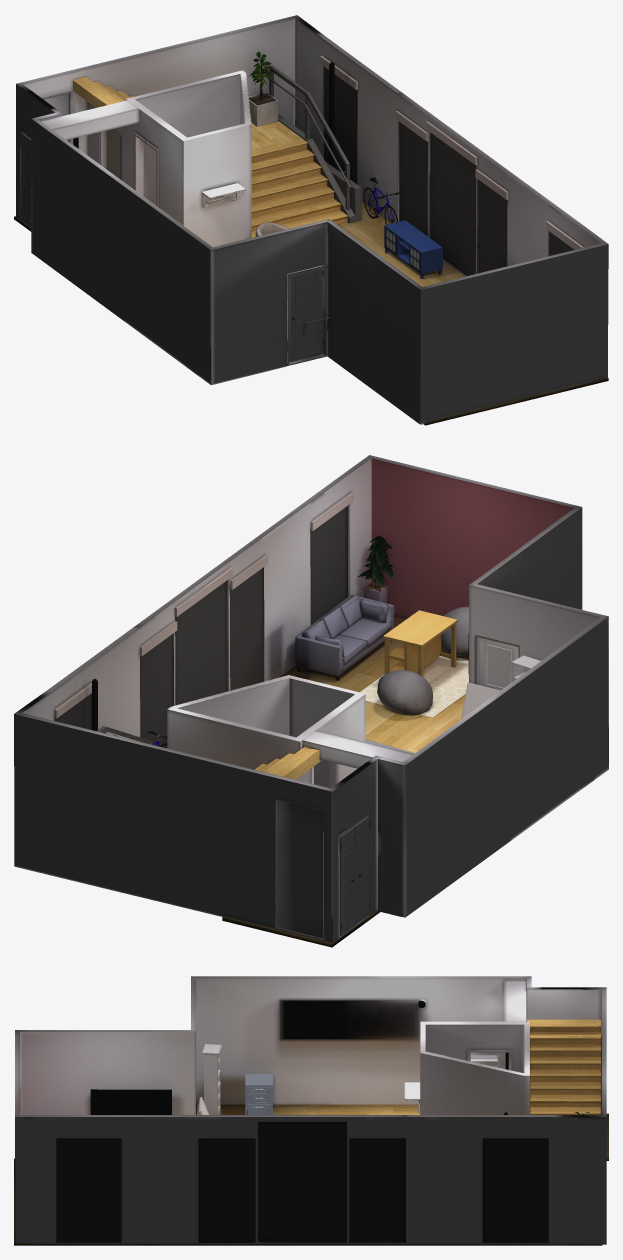
File: Baked_sc1_staging_objaverse_cabinet1_h870.glb
3 views of the same model, one above another, from view 1: azimuth 30°, elevation 25°; view 2: azimuth 150°, elevation 25°; view 3: azimuth 270°, elevation 25° (orthographic). The views are drawn at different scales.
Parts seen in each view (by area): view 1: frl_apartment_wall_arch.001, frl_apartment_blinds, frl_apartment_stair, frl_apartment_floor, frl_apartment_door_01, frl_apartment_tvstand, frl_apartment_indoor_plant_01, frl_apartment_door_05, frl_apartment_door_part_03, frl_apartment_door_part_04, frl_apartment_bike_01, frl_apartment_clothes_hanger_02 (+1 smaller); view 2: frl_apartment_wall_arch.001, frl_apartment_blinds, frl_apartment_door_04, frl_apartment_floor, frl_apartment_sofa, frl_apartment_table_02, frl_apartment_rug_01, frl_apartment_beanbag_01, frl_apartment_door_01, frl_apartment_door_05, frl_apartment_door_06, frl_apartment_stair (+4 smaller); view 3: frl_apartment_wall_arch.001, frl_apartment_blinds, frl_apartment_stair, frl_apartment_floor, frl_apartment_tv_screen, frl_apartment_wall_cabinet_01, Drawer_Merged_Metalic_Gloss_Rough_Alum.001_0.
Part boxes in pixels (left/top/right/bottom): frl_apartment_wall_arch.001: left=16, top=15, right=608, bottom=424; frl_apartment_blinds: left=320, top=56, right=583, bottom=275; frl_apartment_stair: left=73, top=65, right=361, bottom=237; frl_apartment_floor: left=14, top=201, right=608, bottom=425; frl_apartment_door_01: left=289, top=267, right=323, bottom=362; frl_apartment_tvstand: left=384, top=220, right=442, bottom=278; frl_apartment_indoor_plant_01: left=248, top=52, right=278, bottom=126; frl_apartment_door_05: left=21, top=133, right=31, bottom=226; frl_apartment_door_part_03: left=287, top=265, right=327, bottom=365; frl_apartment_door_part_04: left=135, top=133, right=158, bottom=207; frl_apartment_bike_01: left=363, top=177, right=400, bottom=224; frl_apartment_clothes_hanger_02: left=201, top=183, right=245, bottom=207; frl_apartment_wall_arch.001: left=14, top=455, right=608, bottom=943; frl_apartment_blinds: left=54, top=492, right=353, bottom=748; frl_apartment_door_04: left=276, top=800, right=323, bottom=938; frl_apartment_floor: left=222, top=616, right=468, bottom=947; frl_apartment_sofa: left=295, top=594, right=394, bottom=680; frl_apartment_table_02: left=383, top=610, right=457, bottom=676; frl_apartment_rug_01: left=359, top=656, right=468, bottom=717; frl_apartment_beanbag_01: left=377, top=670, right=432, bottom=715; frl_apartment_door_01: left=479, top=637, right=518, bottom=690; frl_apartment_door_05: left=340, top=827, right=355, bottom=935; frl_apartment_door_06: left=354, top=816, right=370, bottom=924; frl_apartment_stair: left=97, top=726, right=320, bottom=779; frl_apartment_wall_arch.001: left=15, top=976, right=606, bottom=1244; frl_apartment_blinds: left=56, top=1122, right=548, bottom=1242; frl_apartment_stair: left=526, top=1019, right=600, bottom=1115; frl_apartment_floor: left=14, top=1104, right=608, bottom=1245; frl_apartment_tv_screen: left=90, top=1089, right=171, bottom=1114; frl_apartment_wall_cabinet_01: left=202, top=1044, right=221, bottom=1114; Drawer_Merged_Metalic_Gloss_Rough_Alum.001_0: left=245, top=1074, right=272, bottom=1114.
Size of the model in its own units: 7.26 by 3.21 by 12.93.
3 materials, 1 textured.
